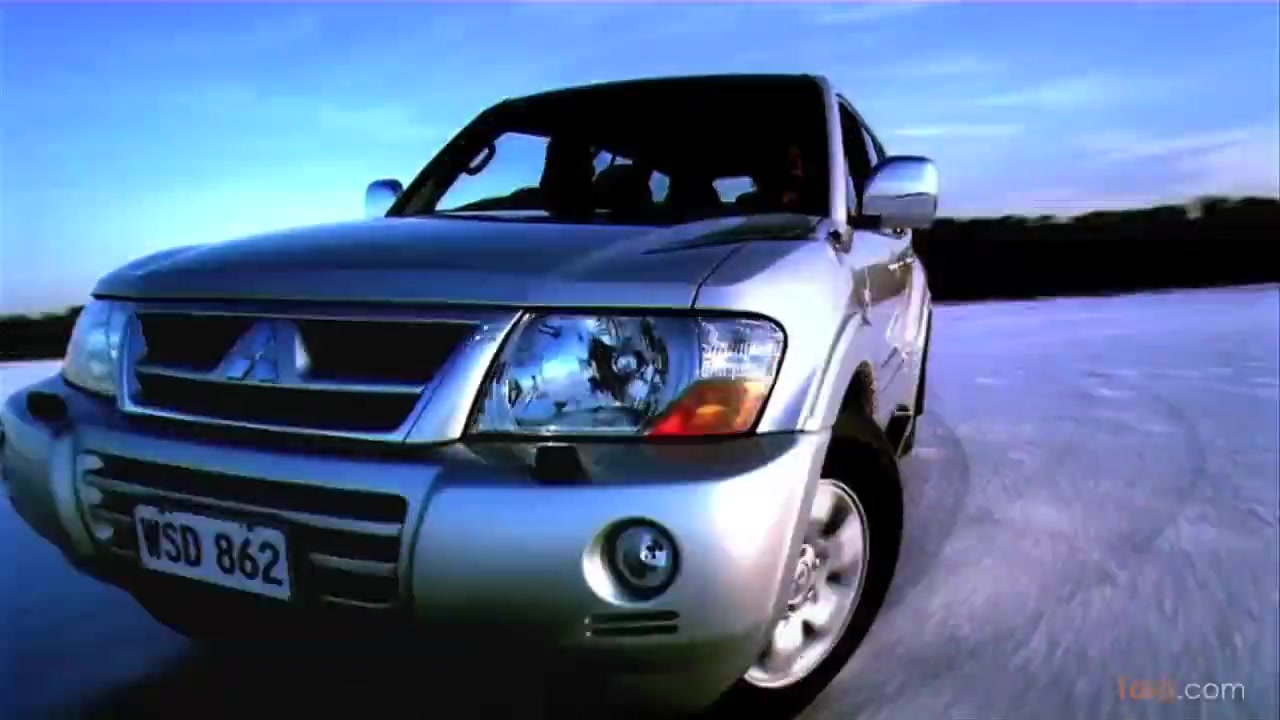car: (1, 66, 939, 716)
